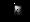person: (15, 6, 23, 16)
